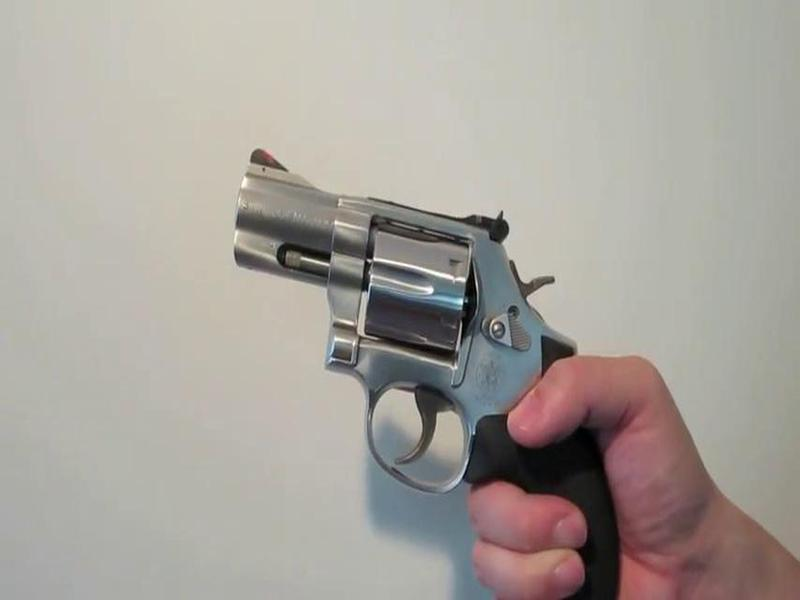Revolver: (233, 116, 687, 600)
